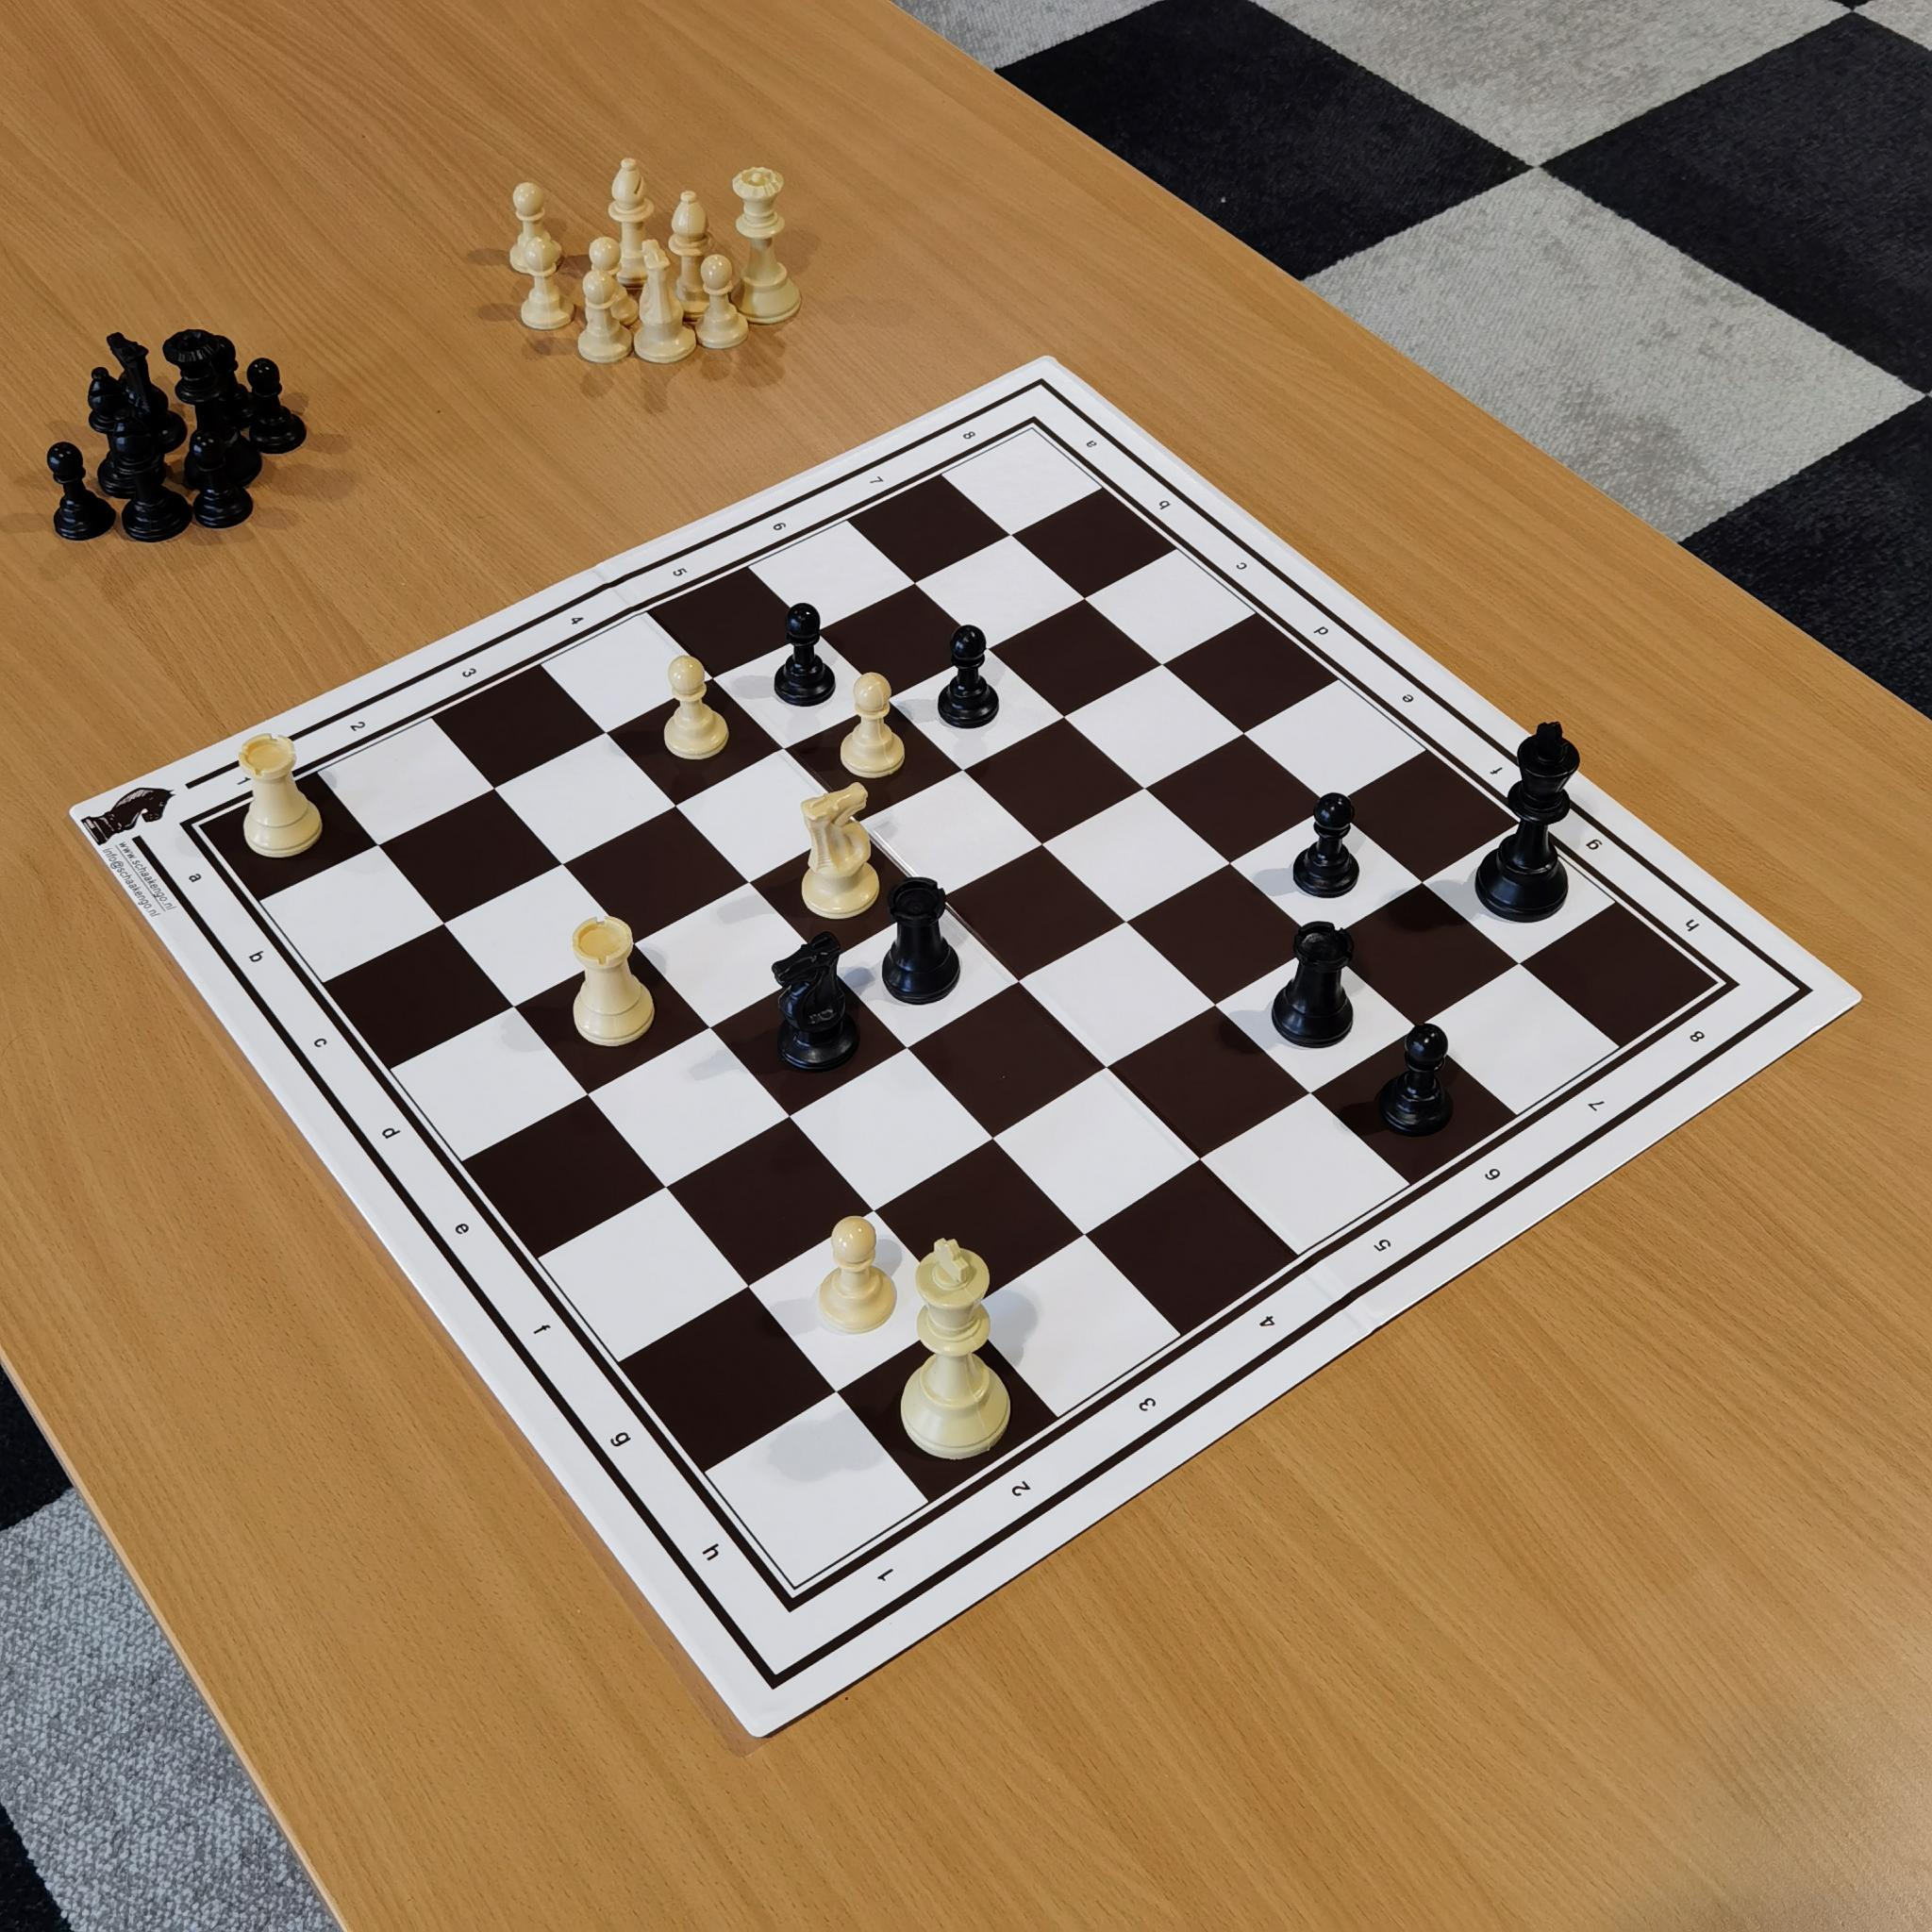corners: (761, 1566, 824, 1628), (173, 809, 232, 856), (1697, 959, 1759, 1003), (1012, 412, 1063, 455)
eight: (1679, 1012, 1723, 1062), (950, 412, 989, 451)
one: (856, 1552, 915, 1608), (234, 754, 264, 796)
